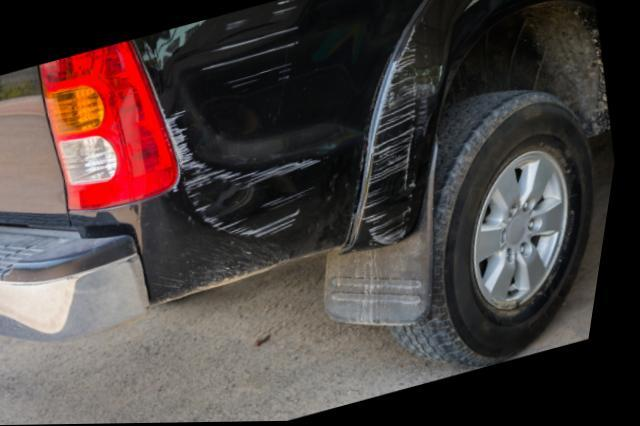scratch: (165, 106, 328, 236), (366, 27, 445, 248), (202, 0, 307, 101)
